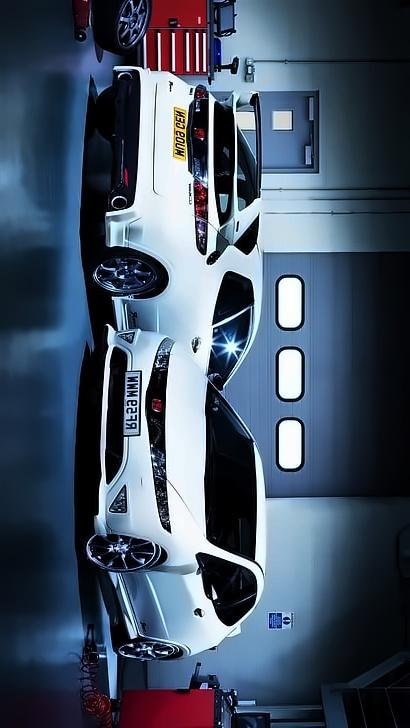Car boot: (147, 65, 223, 210)
Car hood: (162, 340, 210, 540)
Driver-s door - -F-R-: (133, 311, 264, 372)
Fender - -F-L-: (104, 530, 218, 576)
Fender - -R-R-: (130, 242, 225, 307)
Front bumper: (93, 321, 152, 540)
Headlight - -L-: (146, 440, 179, 535)
Headlight - -R-: (149, 329, 184, 379)
Passenger-s door - -F-L-: (116, 567, 275, 628)
Rear bumper: (100, 65, 178, 268)
Rear light - -L-: (180, 82, 220, 120)
Rear light - -R-: (187, 176, 217, 258)
Side bumper - -L-: (105, 568, 144, 651)
Side bumper - -R-: (103, 290, 132, 340)
Side mirror - -L-: (196, 563, 238, 610)
Side mirror - -R-: (206, 366, 236, 400)
